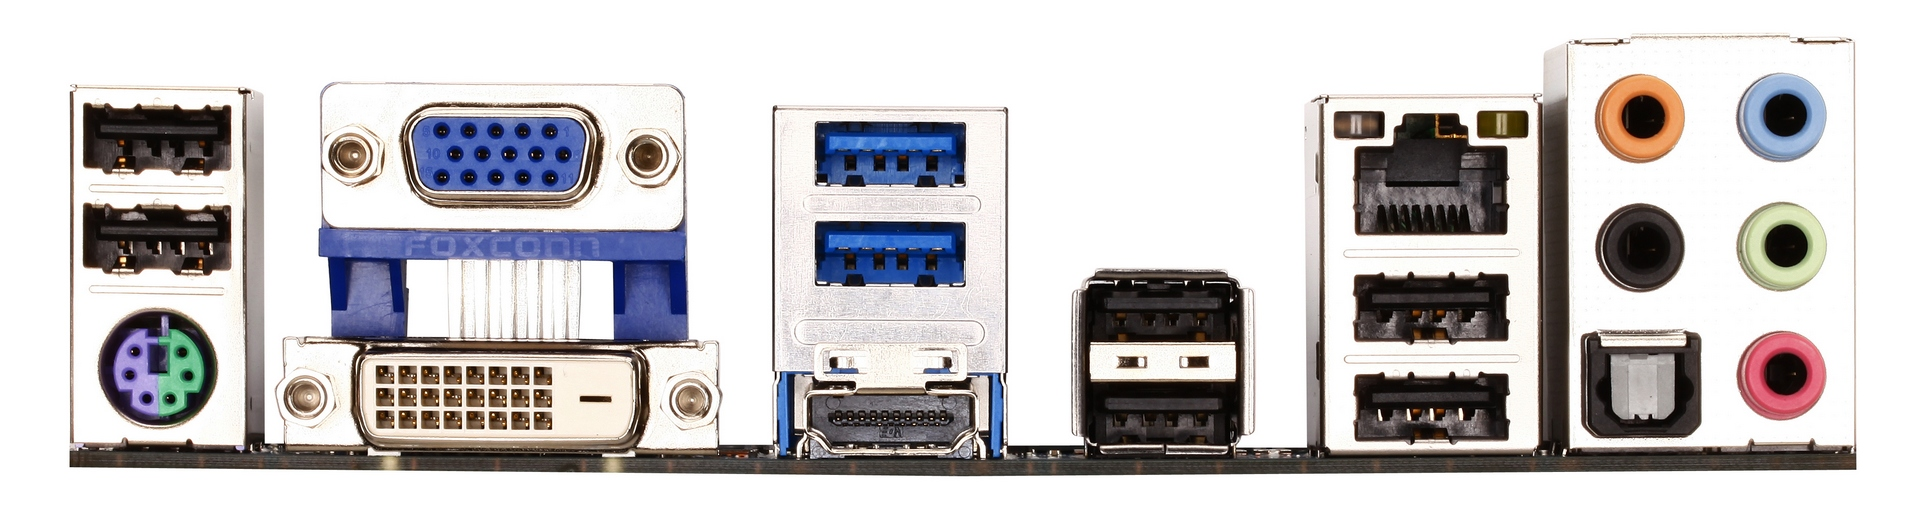DVI: (344, 347, 640, 447)
Ethernet: (1325, 98, 1533, 245)
HDMI: (786, 372, 998, 466)
USB: (1340, 263, 1531, 365), (1331, 363, 1536, 444), (806, 109, 983, 198), (800, 218, 996, 295)
VGA: (396, 102, 598, 207)
